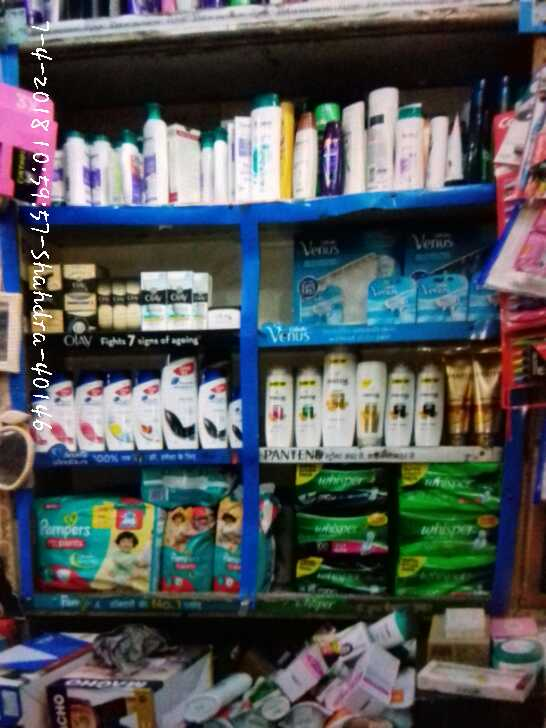venus: (294, 230, 362, 327), (406, 225, 492, 271), (362, 278, 418, 327), (418, 278, 464, 322)
